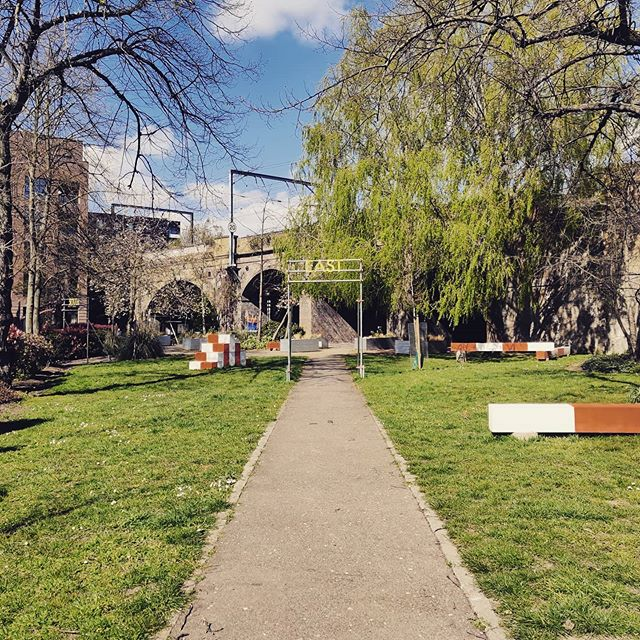bridge: (106, 195, 491, 320)
building: (1, 141, 91, 331)
grass: (372, 354, 640, 640), (1, 363, 273, 640)
tree: (316, 1, 640, 353), (1, 1, 244, 348)
